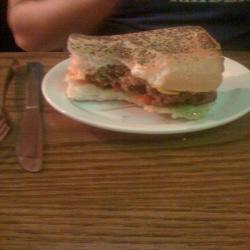burger: (55, 20, 230, 127)
